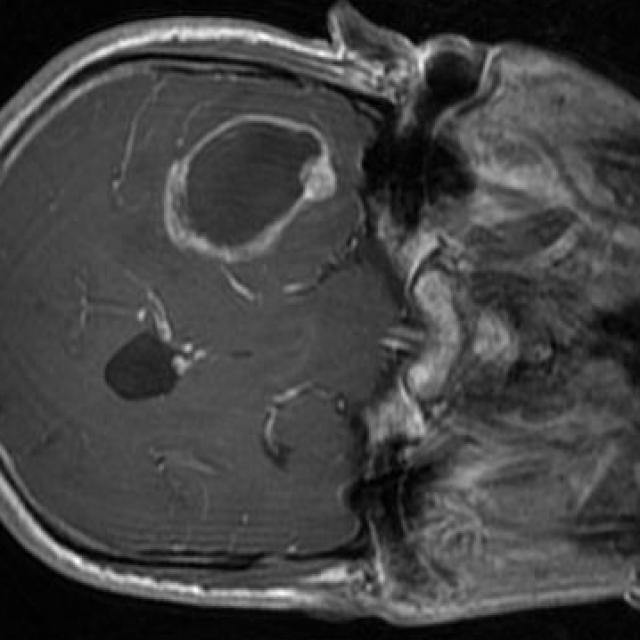glioma: (164, 114, 335, 262)
